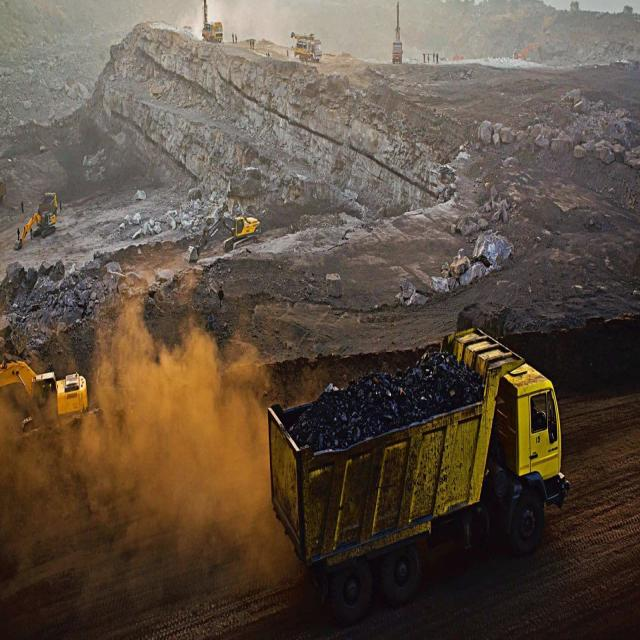dump_truck: (245, 323, 572, 586), (38, 192, 58, 212)
excavator: (0, 354, 96, 434), (183, 204, 263, 264), (14, 212, 56, 250), (512, 41, 542, 60)
light_vehicle: (293, 30, 322, 62), (201, 18, 223, 42)
